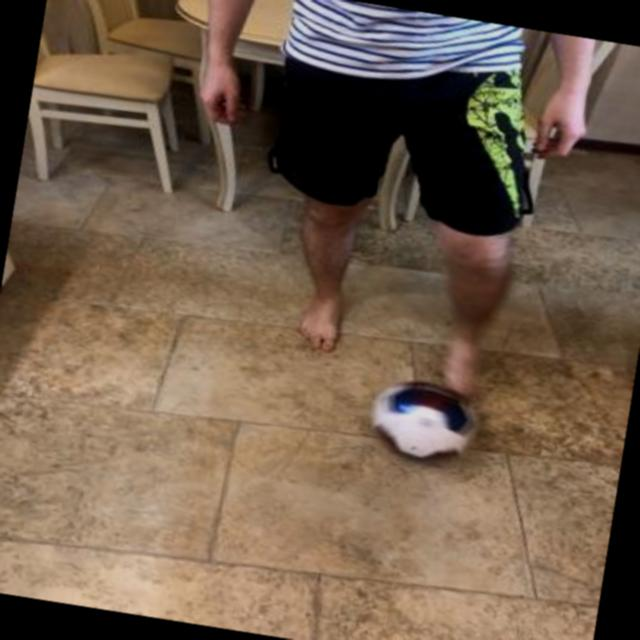Soccer Ball: (366, 368, 489, 468)
